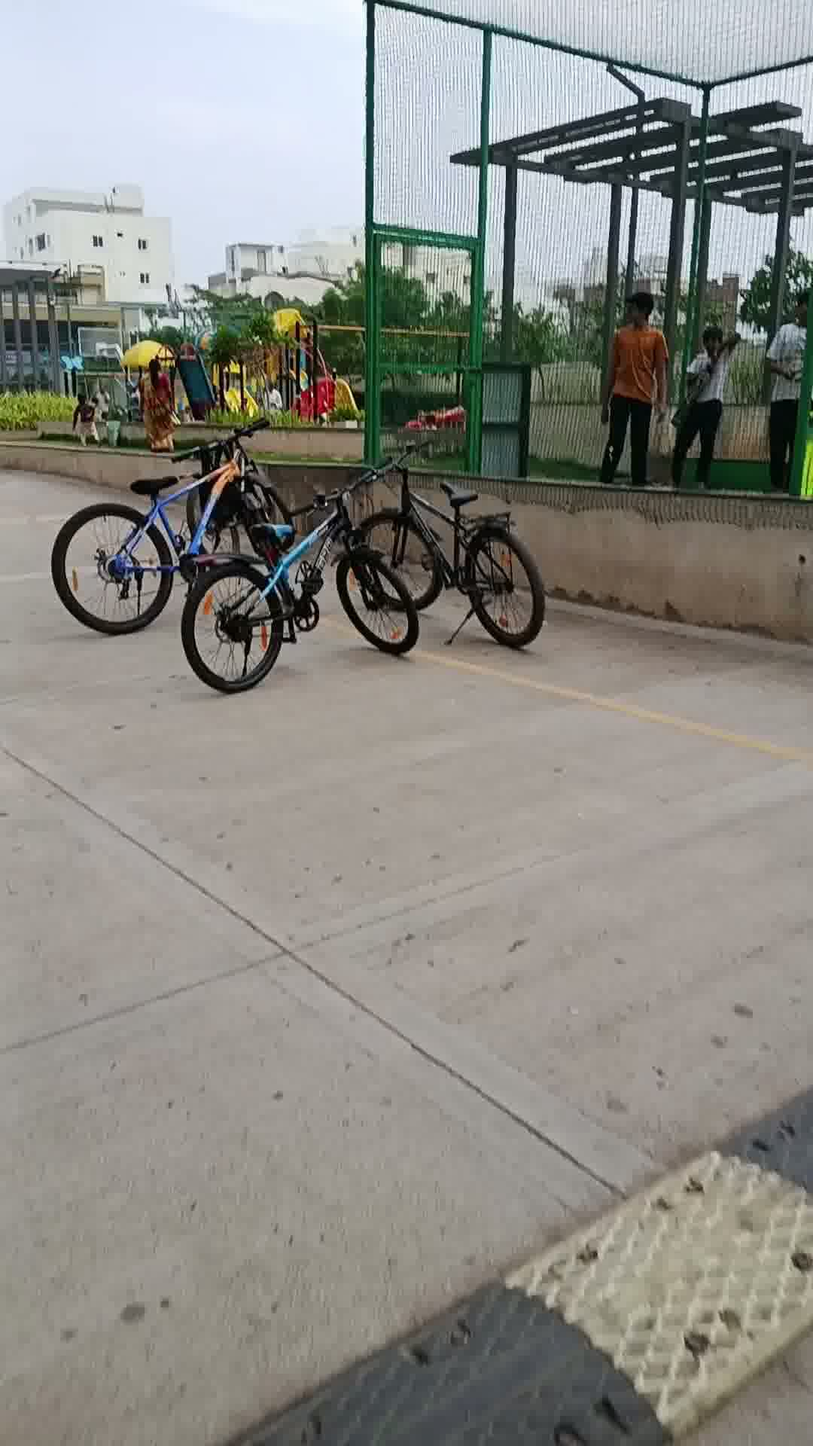bicycle: (157, 494, 422, 704), (330, 432, 561, 658), (45, 439, 264, 653)
person: (597, 262, 664, 492), (757, 271, 813, 498), (677, 302, 734, 491), (133, 345, 179, 453), (74, 380, 102, 457)
